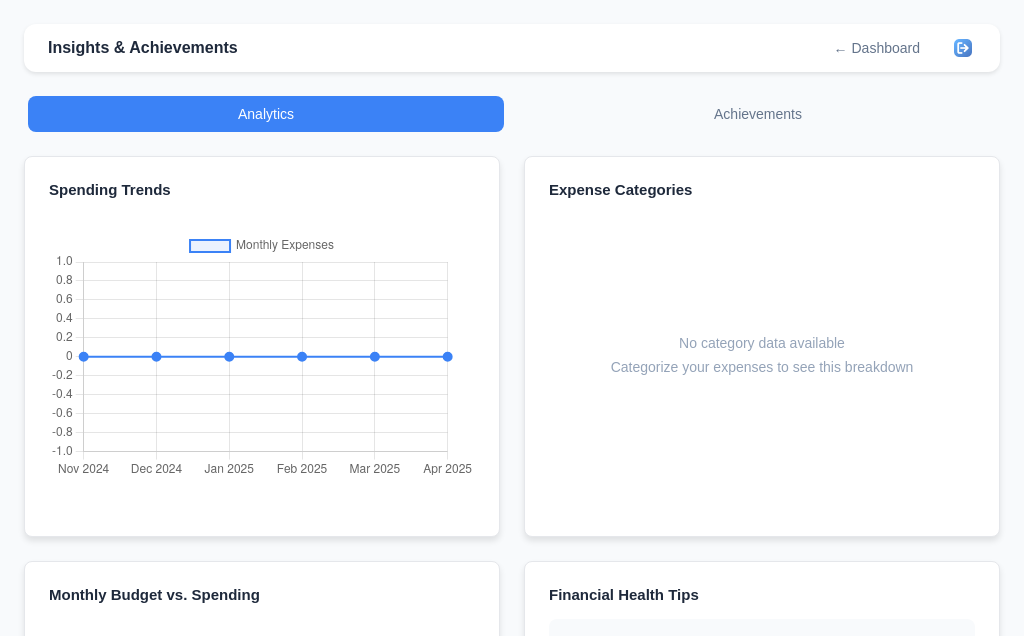
Scenario: Insights Page › switches between analytics and achievements tabs
The width and height of the screenshot is (1024, 636).
Check: the element with class "spending-trends-card" is shown, box top-left (24, 156), bottom-right (500, 537)
Switch to achievements tab
Click the button "Achievements".
click(758, 114)  # box top-left (520, 96), bottom-right (996, 132)
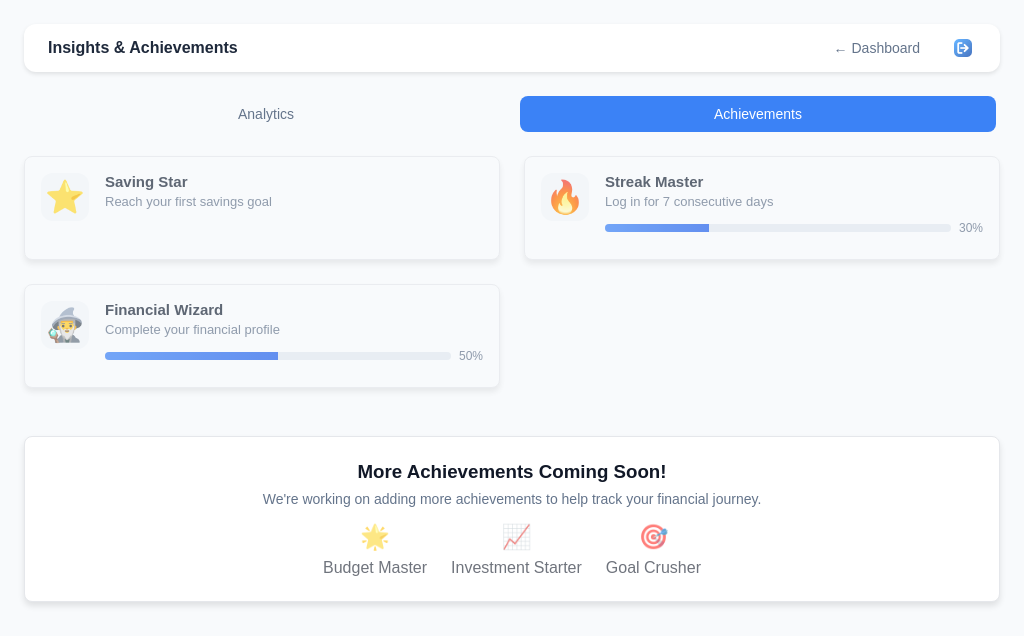
Check: the element with class "achievements-grid" is shown, box top-left (24, 156), bottom-right (1000, 388)
Check: the number of elements with class "achievement-card" is at least 1
